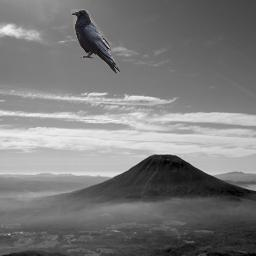Crow: (71, 9, 121, 74)
